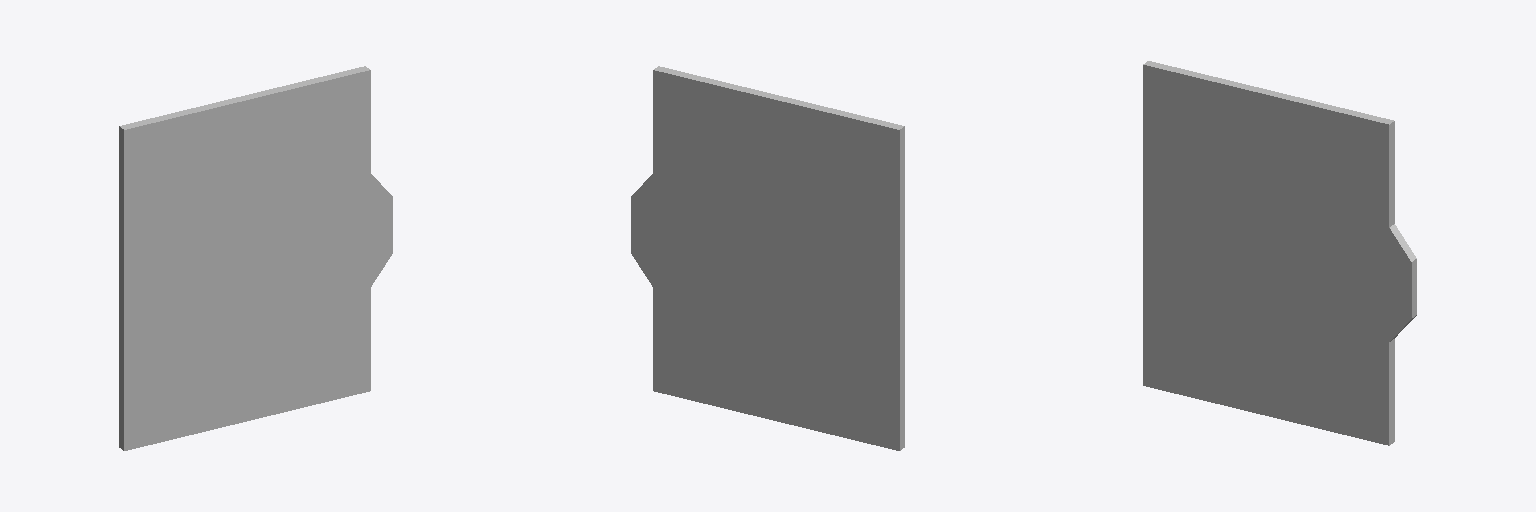
Rendered from door_left.obj.
3 views of the same model, side by side, from view 1: azimuth 30°, elevation 25°; view 2: azimuth 150°, elevation 25°; view 3: azimuth 330°, elevation 25° (orthographic).
Visible parts, largest first — view 1: door_left_Plane.005; view 2: door_left_Plane.005; view 3: door_left_Plane.005.
Boxes of the visible parts, x1=… form: door_left_Plane.005: x1=119, y1=66, x2=392, y2=450; door_left_Plane.005: x1=631, y1=66, x2=904, y2=450; door_left_Plane.005: x1=1143, y1=61, x2=1416, y2=445.
Size of the model in its own units: 2.92 by 3.34 by 0.1013.